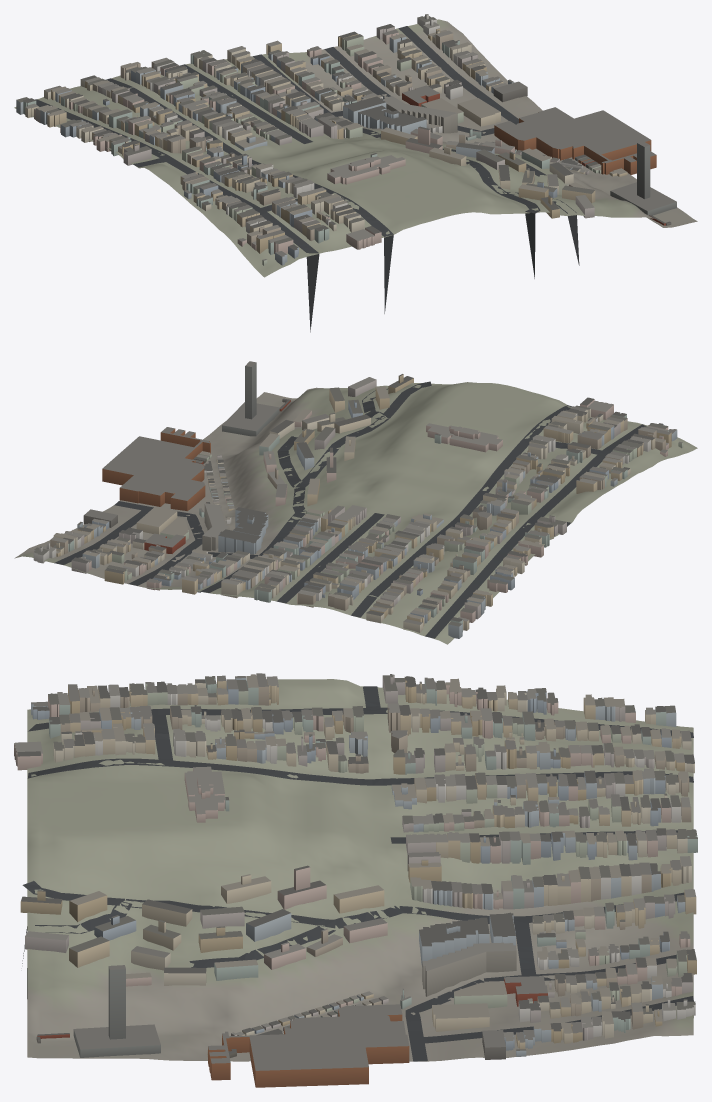
The picture shows the model from 3 angles, top to bottom: view 1: azimuth 30°, elevation 25°; view 2: azimuth 150°, elevation 25°; view 3: azimuth 270°, elevation 25°; orthographic projection. The views are drawn at different scales.
Visible parts, largest first — view 1: buildings, ground, roads; view 2: buildings, ground, roads; view 3: buildings, ground, roads.
Part boxes in pixels (x1,y1,x2,y2): buildings: [16, 14, 676, 265]; ground: [14, 19, 697, 277]; roads: [35, 26, 579, 332]; buildings: [33, 361, 683, 638]; ground: [14, 382, 697, 644]; roads: [54, 381, 646, 638]; buildings: [14, 673, 697, 1087]; ground: [27, 679, 693, 1061]; roads: [22, 686, 693, 1061].
Bounding box in the file's own units: 555 × 107 × 513.
